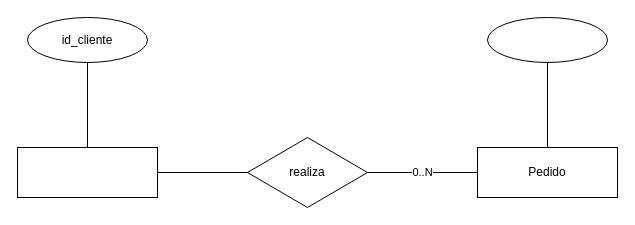
The diagram is 635 pixels wide and 225 high, and some of its shapes have lost their labels. The shapes that lost their labels are listed below. From the top down, each one's centre as x and y in pixels, then its label:
(x=547, y=39): id_pedido
(x=87, y=172): Cliente
